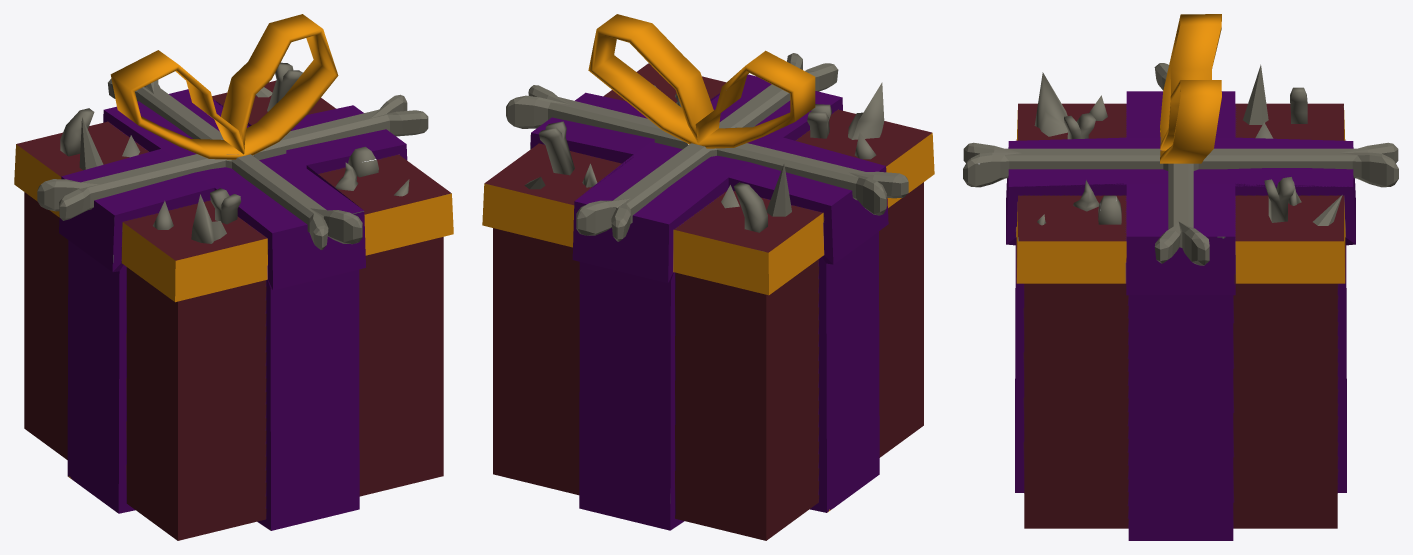
The model's file is gift_box2.fbx.
3 views of the same model, side by side, from view 1: azimuth 30°, elevation 25°; view 2: azimuth 150°, elevation 25°; view 3: azimuth 270°, elevation 25° (orthographic). The views are drawn at different scales.
Parts seen in each view (by area): view 1: Box Style 2; view 2: Box Style 2; view 3: Box Style 2.
Boxes of the visible parts, x1,y1,x2,y2 form: Box Style 2: [14, 14, 453, 540]; Box Style 2: [482, 14, 934, 540]; Box Style 2: [963, 14, 1398, 540].
Bounding box in the file's own units: 0.6994 × 0.6994 × 0.7486.
1 material, 1 textured.
